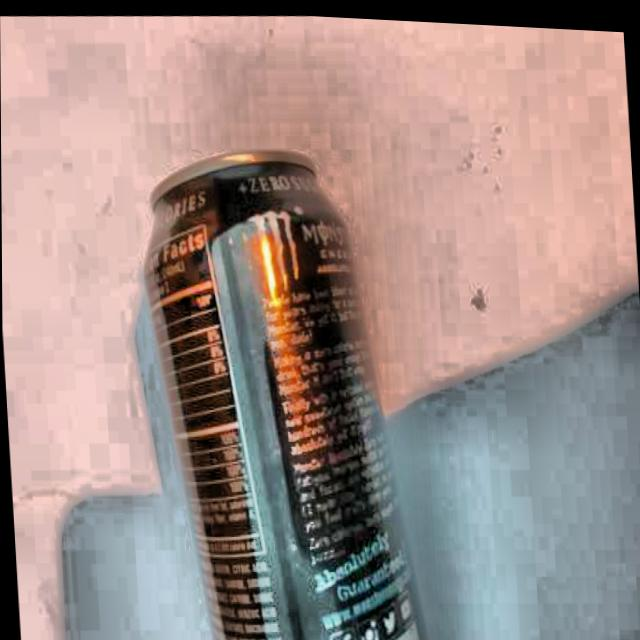Cans: (120, 113, 432, 640)
